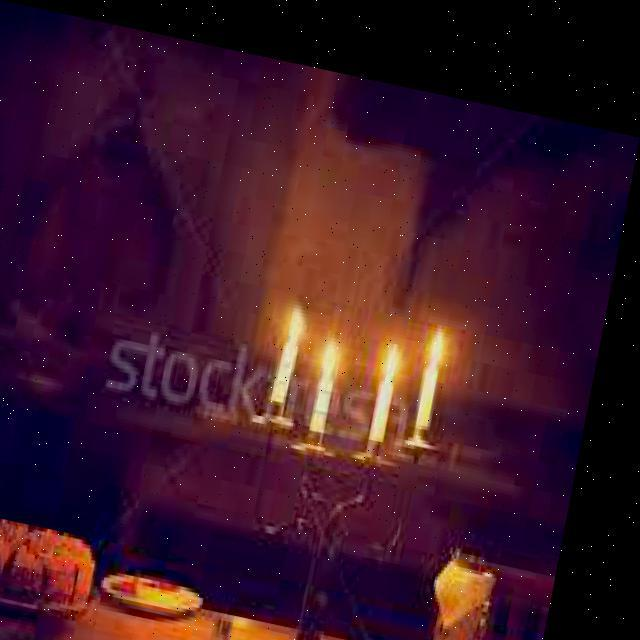Fire: (290, 270, 324, 330), (429, 294, 462, 354), (324, 315, 352, 364), (387, 316, 412, 364)
